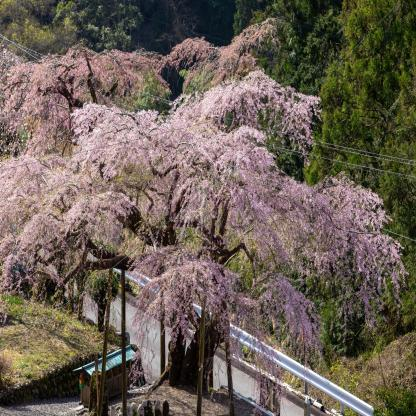ShidareZakura: (7, 71, 410, 416), (0, 18, 291, 334)
